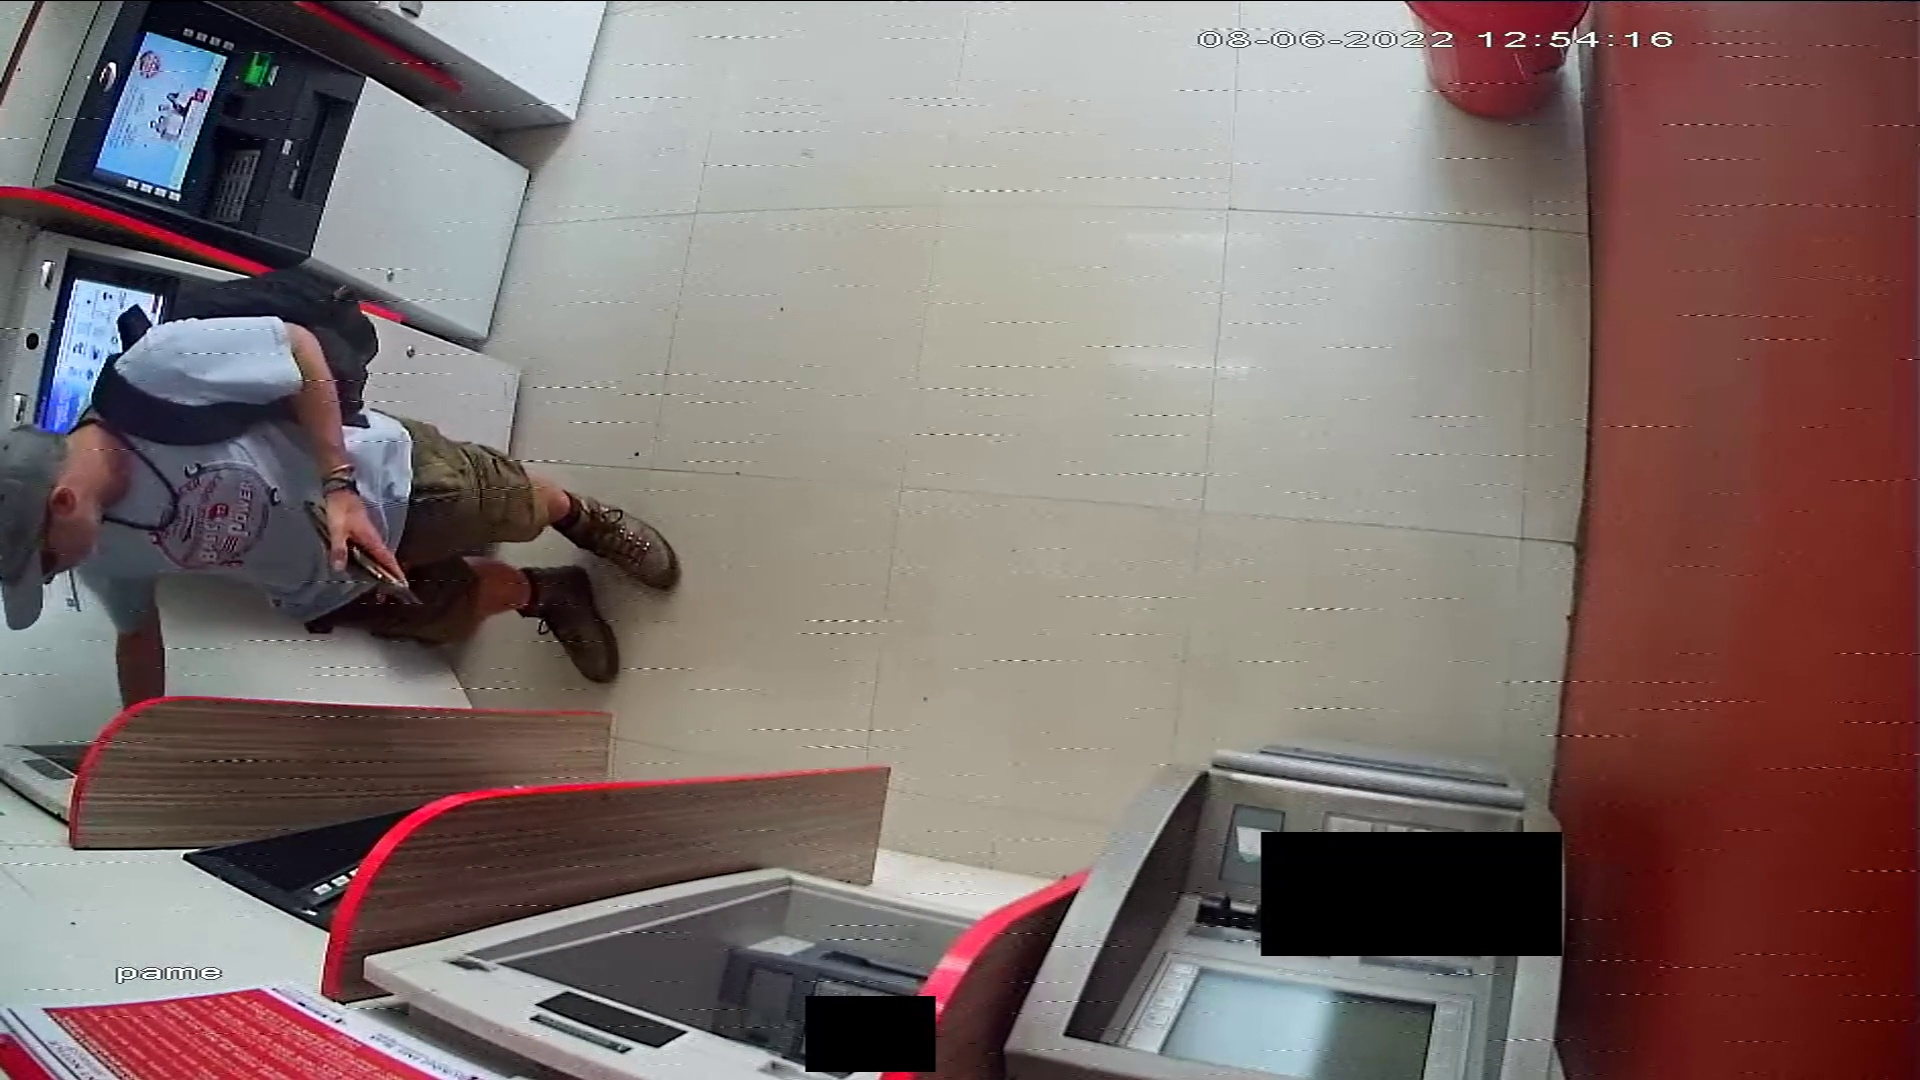person: (1, 319, 681, 698)
